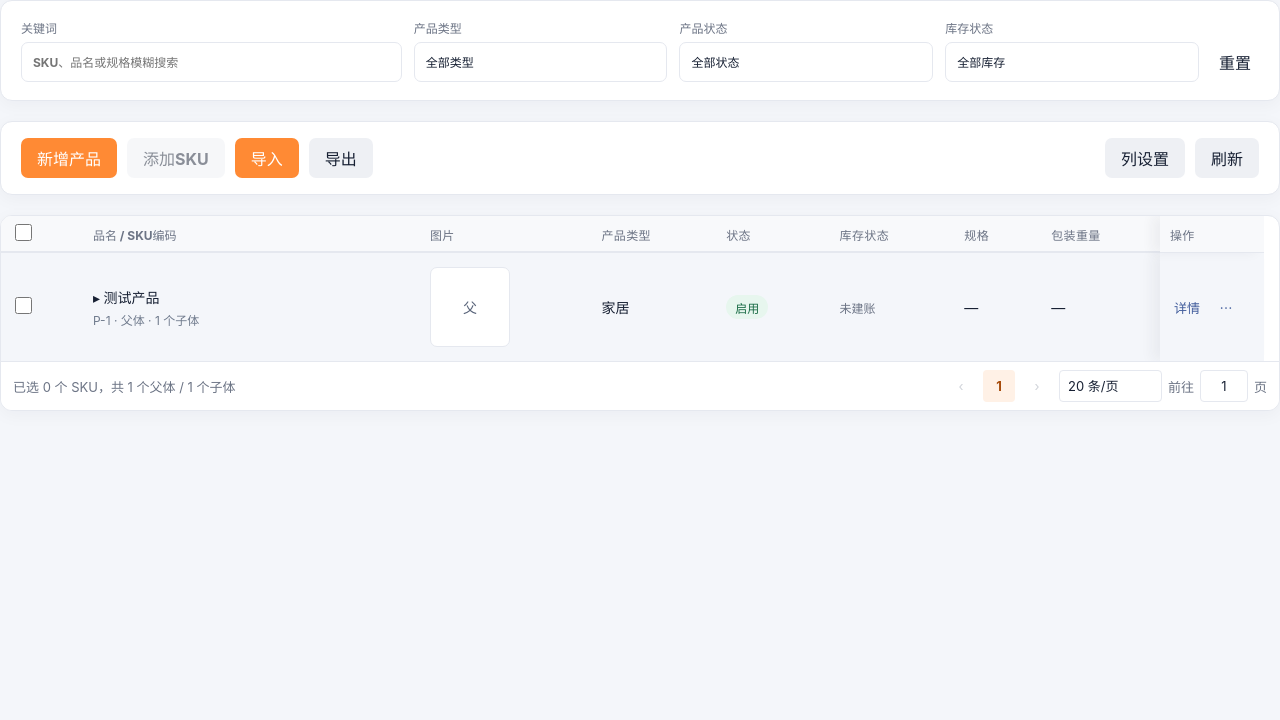
Test: ProductsView › uses a compact text reset action and clears search filters
Type "no-match" into the search field labelled "关键词" at (211, 62), box [21, 42, 402, 82]
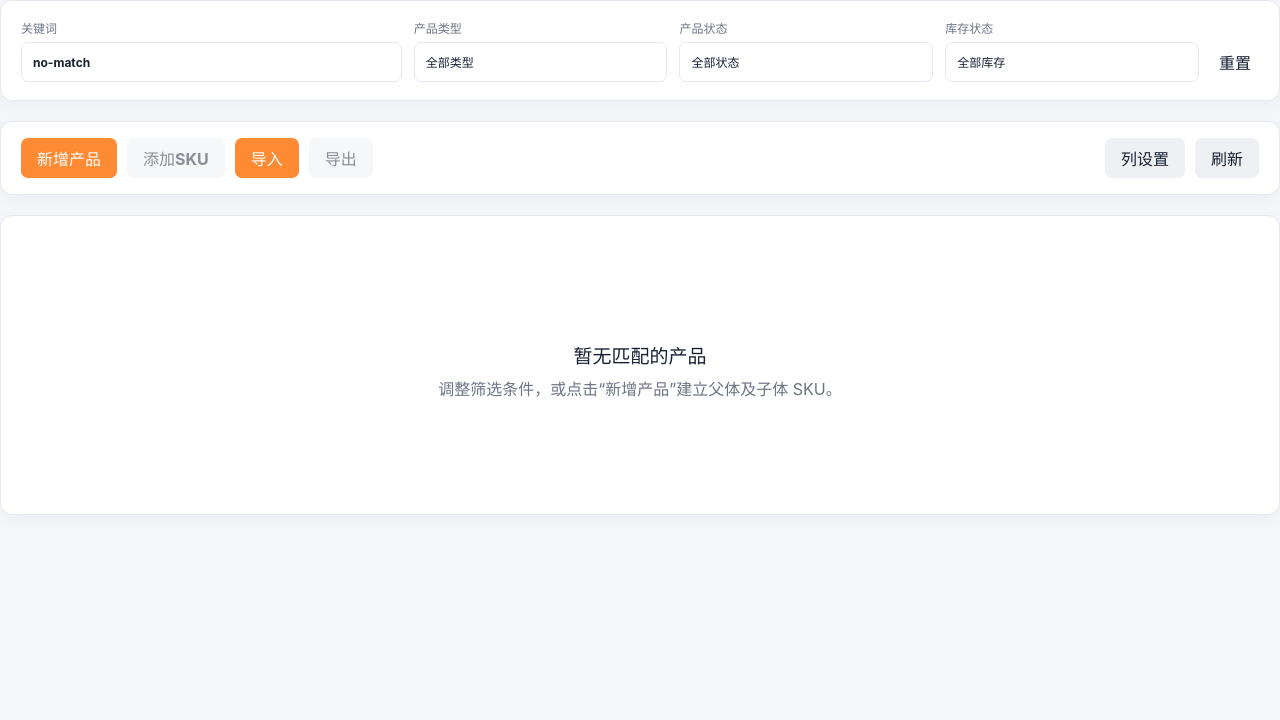
Click the button with class "filter-reset-button" at (1235, 62), box [1211, 42, 1259, 82]
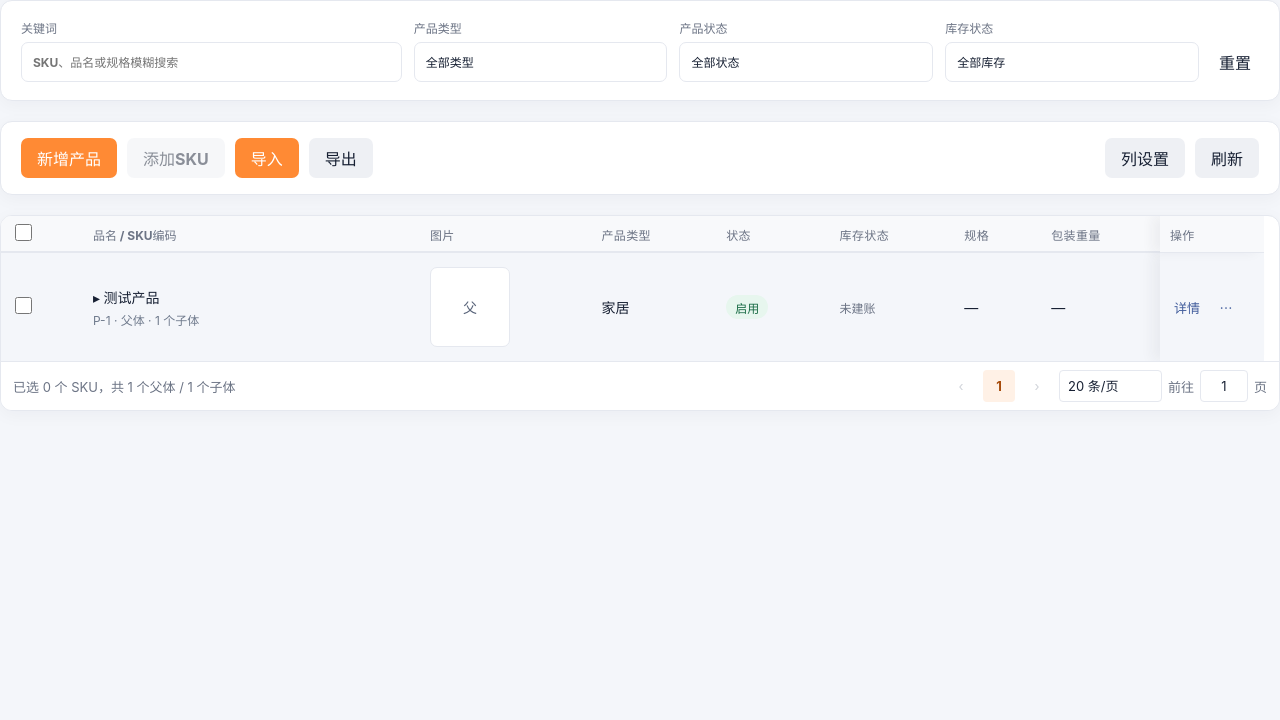
Check: the search field labelled "关键词" is empty, box [21, 42, 402, 82]
Check: the row "▸ 测试产品 P-1 · 父体 · 1 个子体 父 家居 启用 未建账 — — 详情 ⋯" is shown, box [1, 253, 1264, 361]
